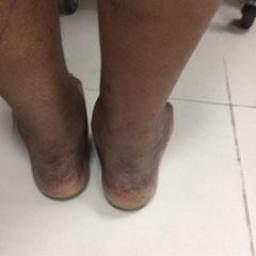Back View -Both Feet-: (2, 51, 202, 227)
